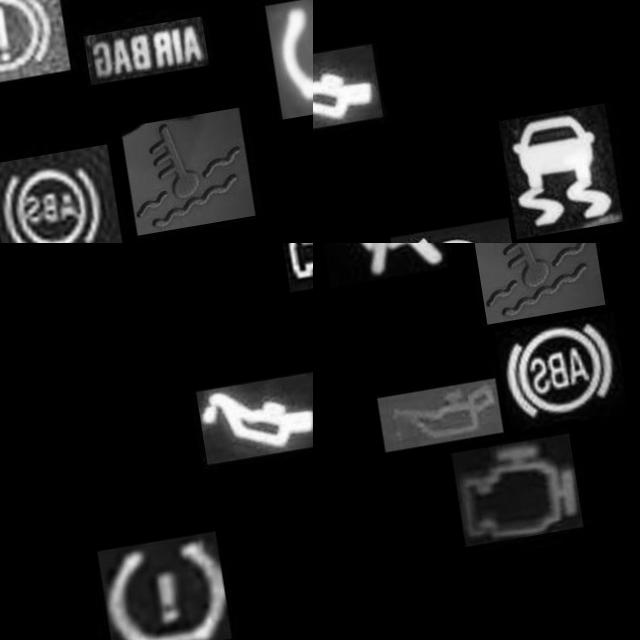Engine cooling system: (114, 121, 245, 243), (462, 243, 593, 332)
